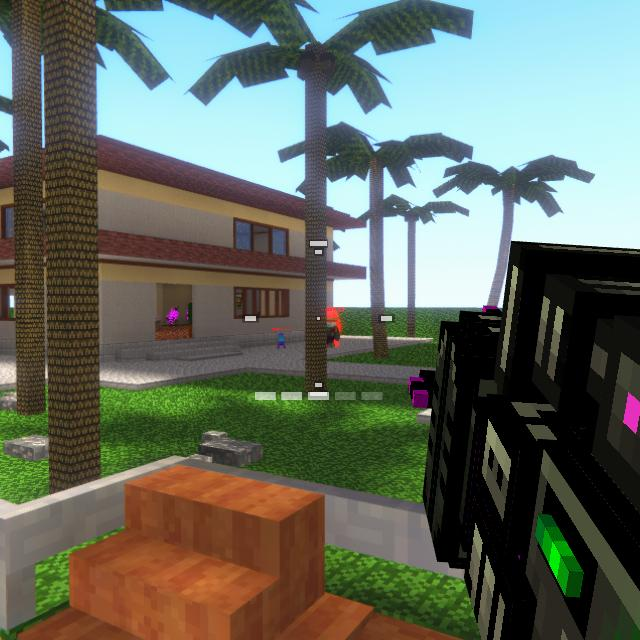Enemy: (326, 319, 340, 349)
